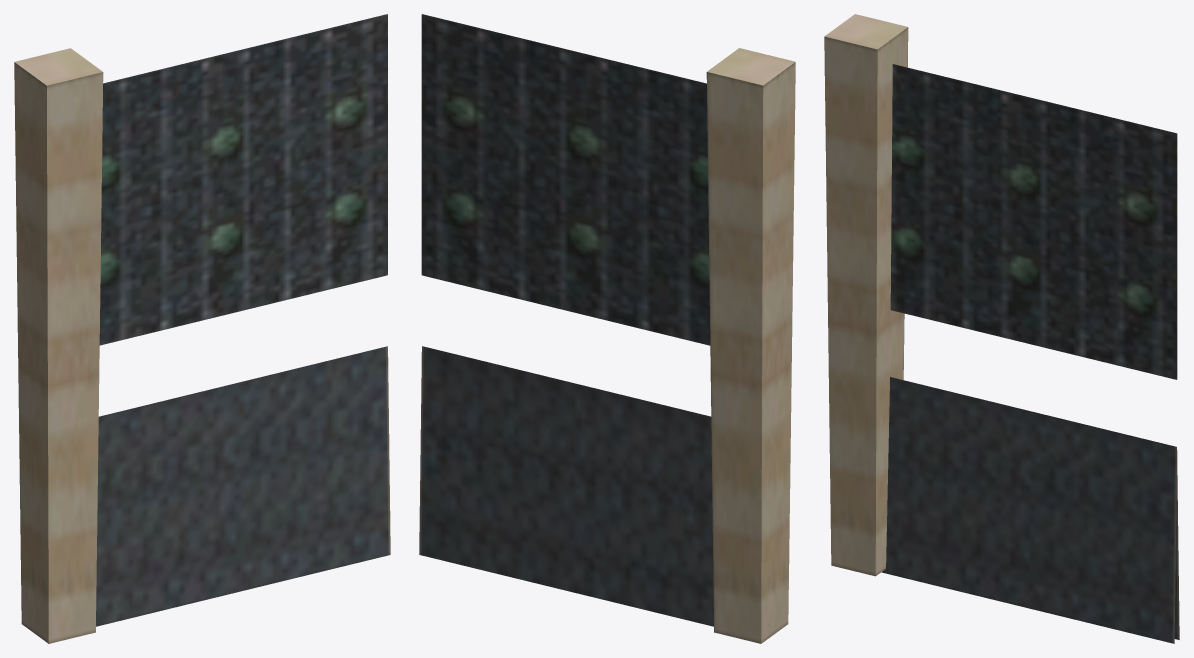
Rendered from thm_nboo_imprv_metal_fence_wall_lg_s01_l3.fbx.
The picture shows the model from 3 angles, left to right: view 1: azimuth 30°, elevation 25°; view 2: azimuth 150°, elevation 25°; view 3: azimuth 330°, elevation 25°; orthographic projection. The views are drawn at different scales.
Visible parts, largest first — view 1: mesh_node; view 2: mesh_node; view 3: mesh_node.
Part boxes in pixels (x1=…): mesh_node: x1=14, y1=14, x2=390, y2=643; mesh_node: x1=419, y1=14, x2=795, y2=643; mesh_node: x1=824, y1=14, x2=1179, y2=643.
Bounding box in the file's own units: 3.8 × 5.75 × 0.6.
Materials: 2 (2 with a texture image).
